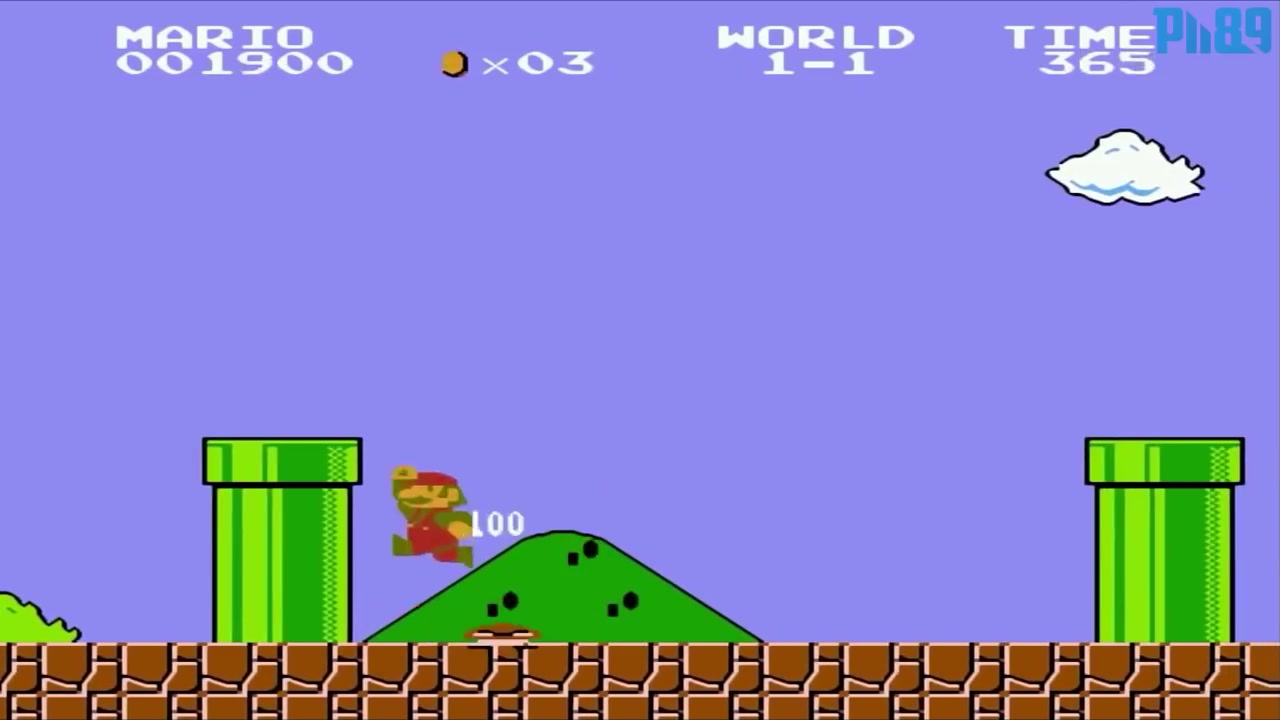mario: (382, 462, 478, 571)
